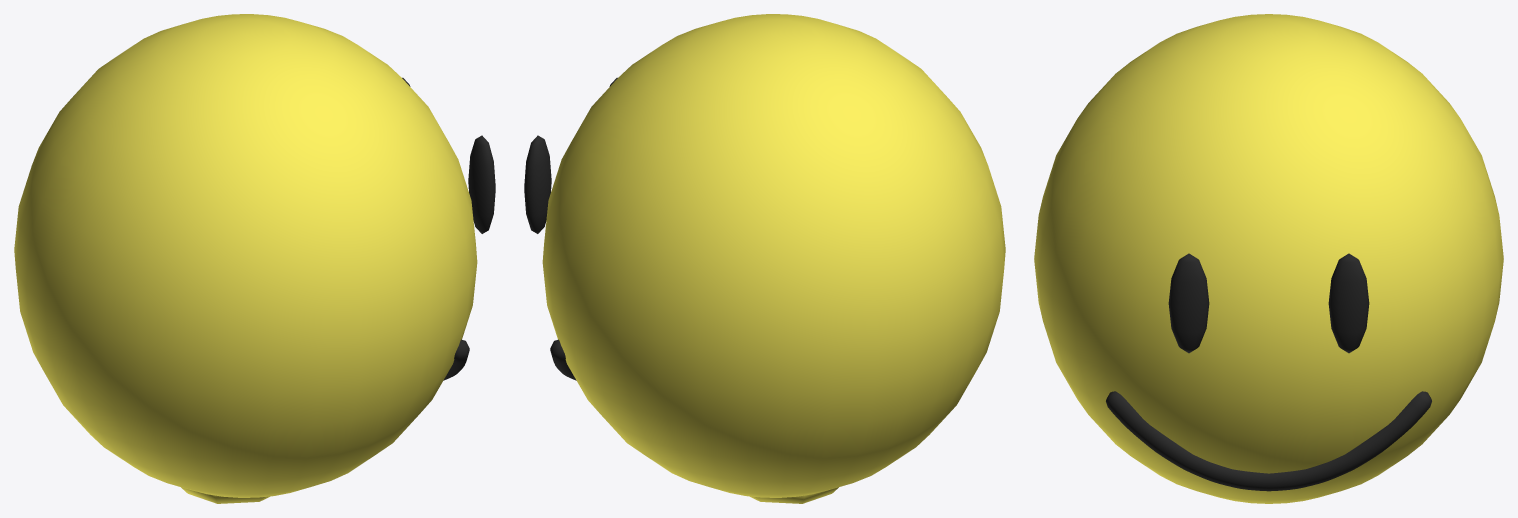
The model's file is SM_Partygoer_Head.fbx.
3 views of the same model, side by side, from view 1: azimuth 30°, elevation 25°; view 2: azimuth 150°, elevation 25°; view 3: azimuth 270°, elevation 25° (orthographic).
Parts seen in each view (by area): view 1: SM_Partygoer_Head; view 2: SM_Partygoer_Head; view 3: SM_Partygoer_Head.
Boxes of the visible parts, bbox=[...] form: SM_Partygoer_Head: bbox=[14, 14, 495, 503]; SM_Partygoer_Head: bbox=[524, 14, 1005, 503]; SM_Partygoer_Head: bbox=[1034, 14, 1503, 503].
Size of the model in its own units: 32.76 by 34.75 by 32.3.
